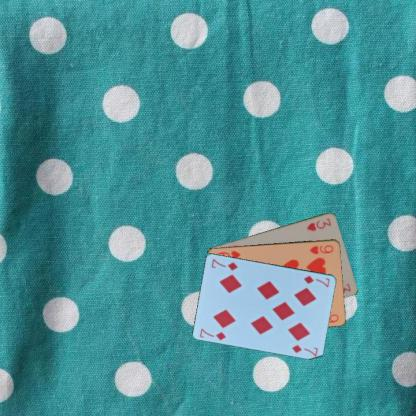3h: (305, 215, 332, 232)
7d: (197, 326, 228, 341), (302, 273, 331, 288)
9h: (307, 242, 334, 255)
